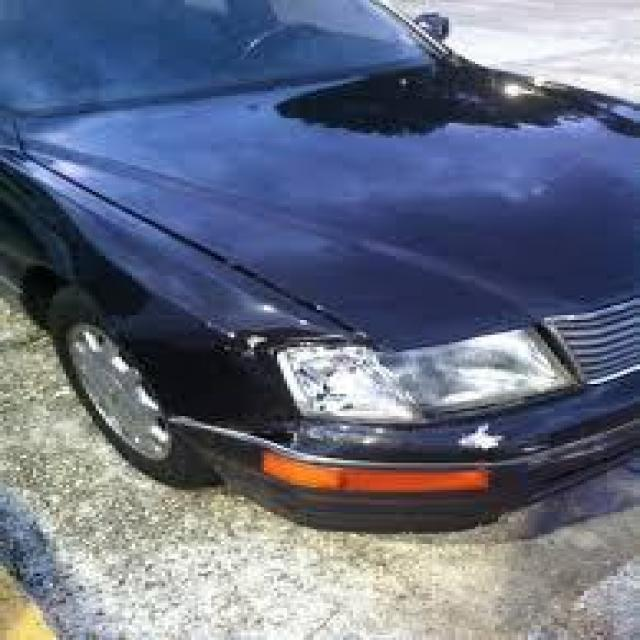damaged: (198, 320, 376, 362), (254, 423, 353, 453), (455, 423, 508, 453)
